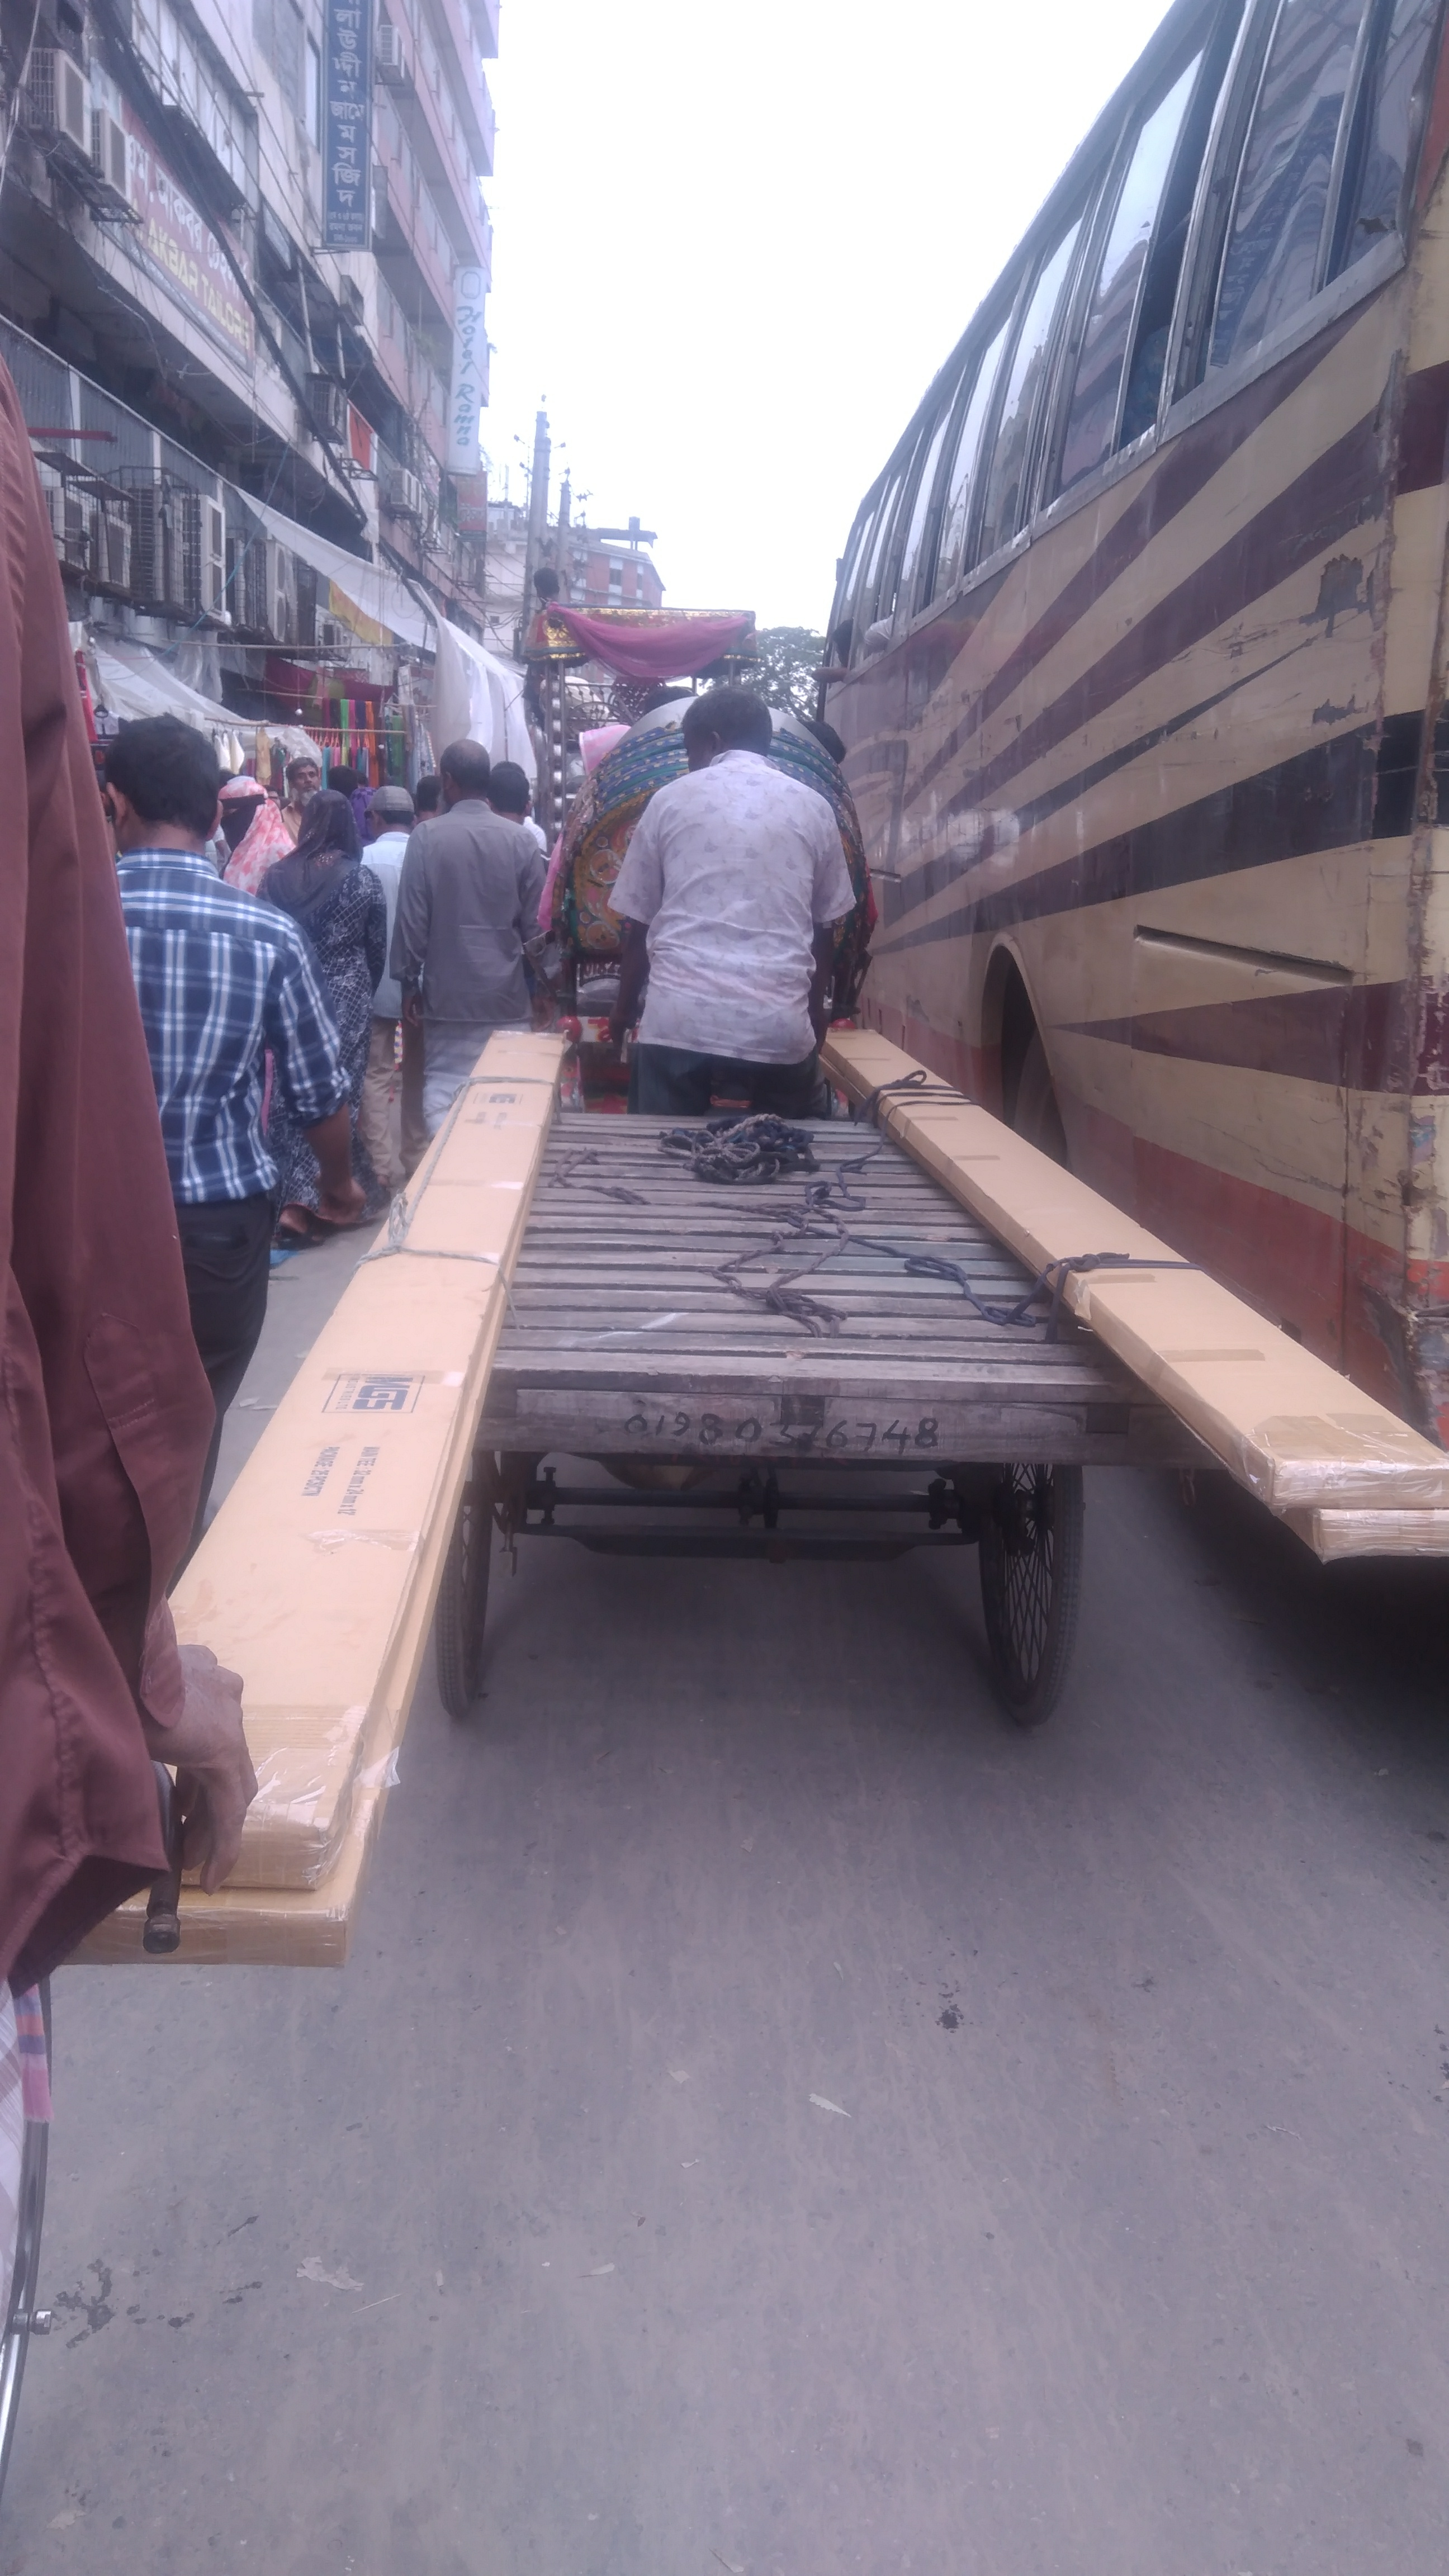bus: (805, 5, 1444, 1583)
van: (407, 1088, 1125, 1739)
